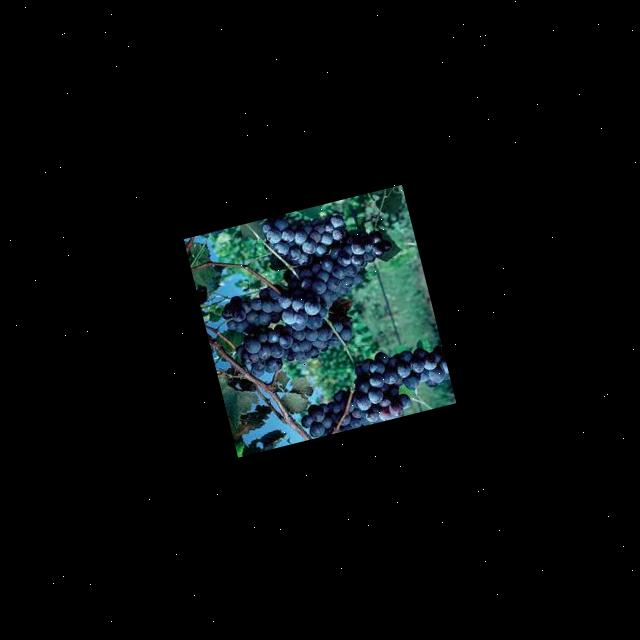grape: (200, 190, 414, 382), (288, 336, 455, 438)
